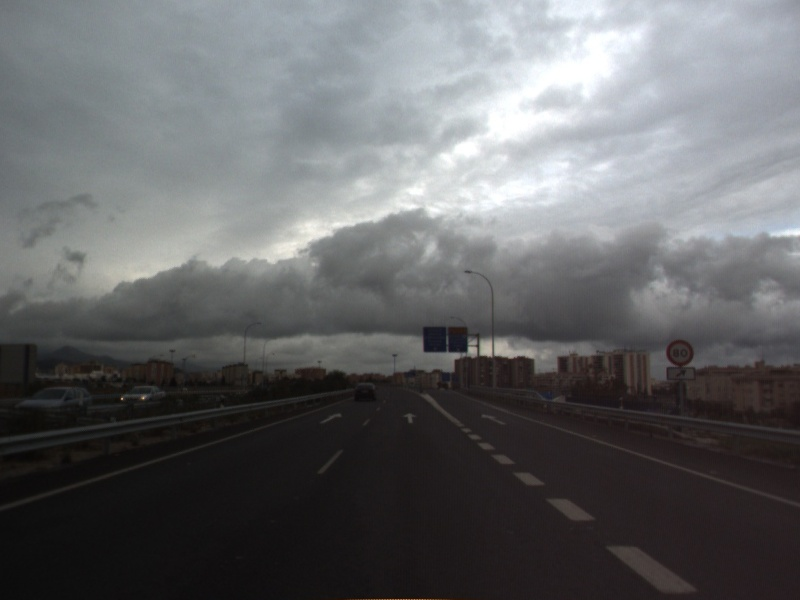STRAIGHT: (479, 411, 509, 426), (317, 410, 344, 426), (401, 411, 419, 425)
